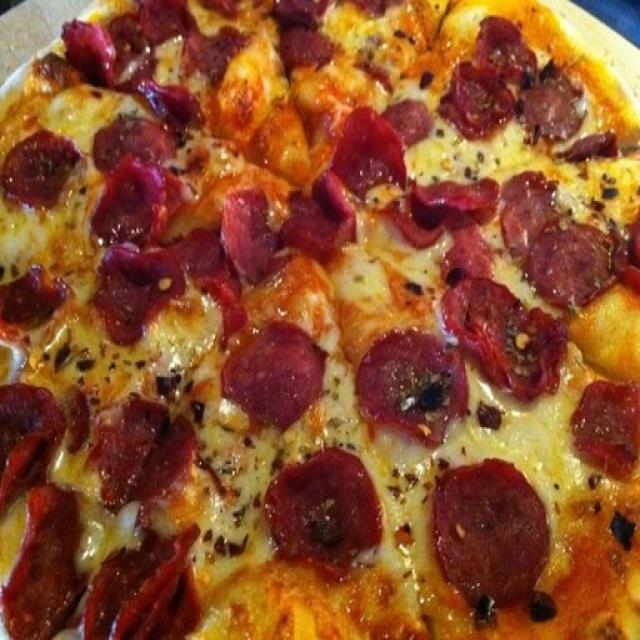Pepperoni: (437, 461, 547, 604), (82, 517, 202, 640), (266, 452, 380, 568), (450, 277, 561, 394), (2, 490, 84, 640), (361, 348, 470, 440), (223, 327, 324, 419), (104, 395, 194, 497), (389, 177, 503, 250), (118, 12, 231, 76), (98, 147, 169, 244), (0, 386, 59, 502), (178, 235, 244, 333), (105, 243, 174, 336), (570, 390, 640, 475), (537, 226, 619, 298), (337, 111, 405, 193), (4, 132, 79, 203), (284, 194, 362, 258), (217, 188, 275, 274), (526, 65, 586, 144), (0, 258, 56, 342), (443, 68, 508, 138), (271, 0, 339, 66), (506, 168, 554, 253), (130, 69, 192, 128), (62, 19, 115, 88), (98, 113, 167, 166), (481, 17, 535, 74), (384, 94, 430, 143), (562, 145, 621, 162)
Pizza: (0, 0, 640, 640)
